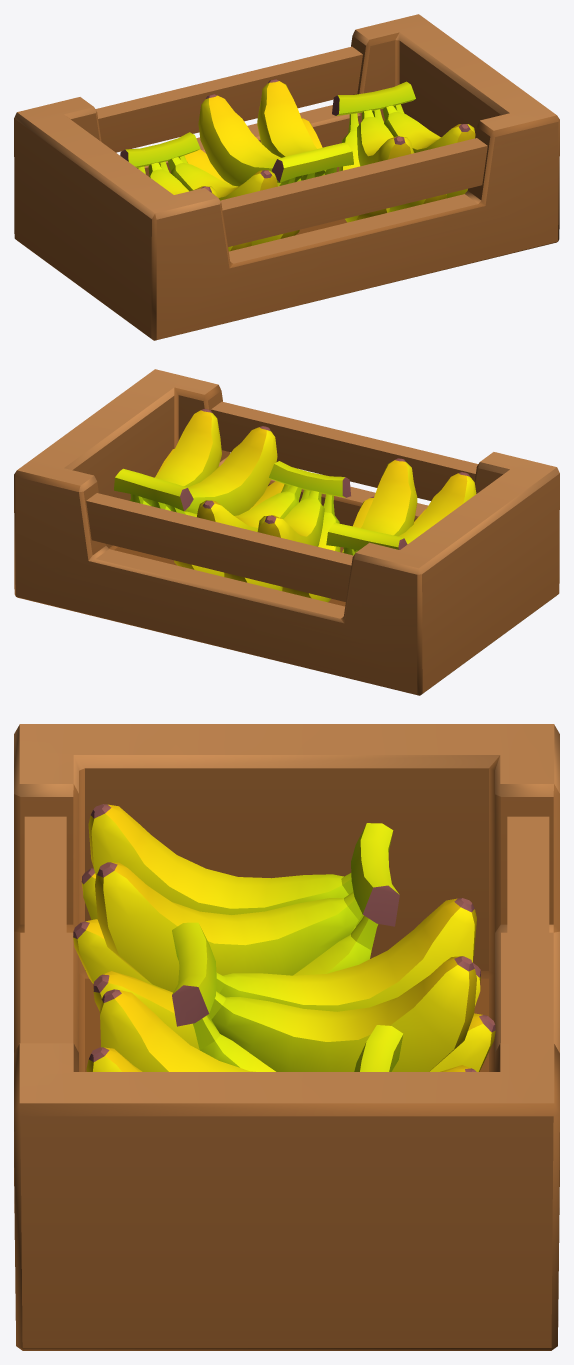
The model's file is Fruit_Crate_Bananas_01.fbx.
The picture shows the model from 3 angles, top to bottom: view 1: azimuth 30°, elevation 25°; view 2: azimuth 150°, elevation 25°; view 3: azimuth 270°, elevation 25°; orthographic projection. The views are drawn at different scales.
Visible parts, largest first — view 1: Fruit_Crate_Bananas_01; view 2: Fruit_Crate_Bananas_01; view 3: Fruit_Crate_Bananas_01.
Boxes of the visible parts, box(x1,y1,x2,y2) form: Fruit_Crate_Bananas_01: box(14, 14, 559, 340); Fruit_Crate_Bananas_01: box(14, 369, 559, 695); Fruit_Crate_Bananas_01: box(14, 724, 559, 1350).
Size of the model in its own units: 2 by 0.5992 by 1.2.
